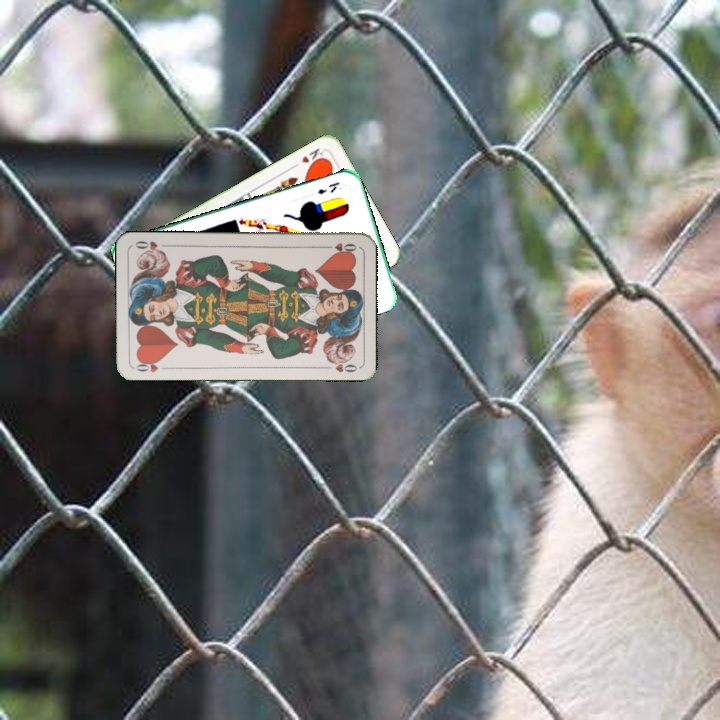EK: (313, 178, 342, 197)
HK: (297, 144, 328, 169)
HO: (319, 239, 359, 255), (131, 356, 163, 375)
